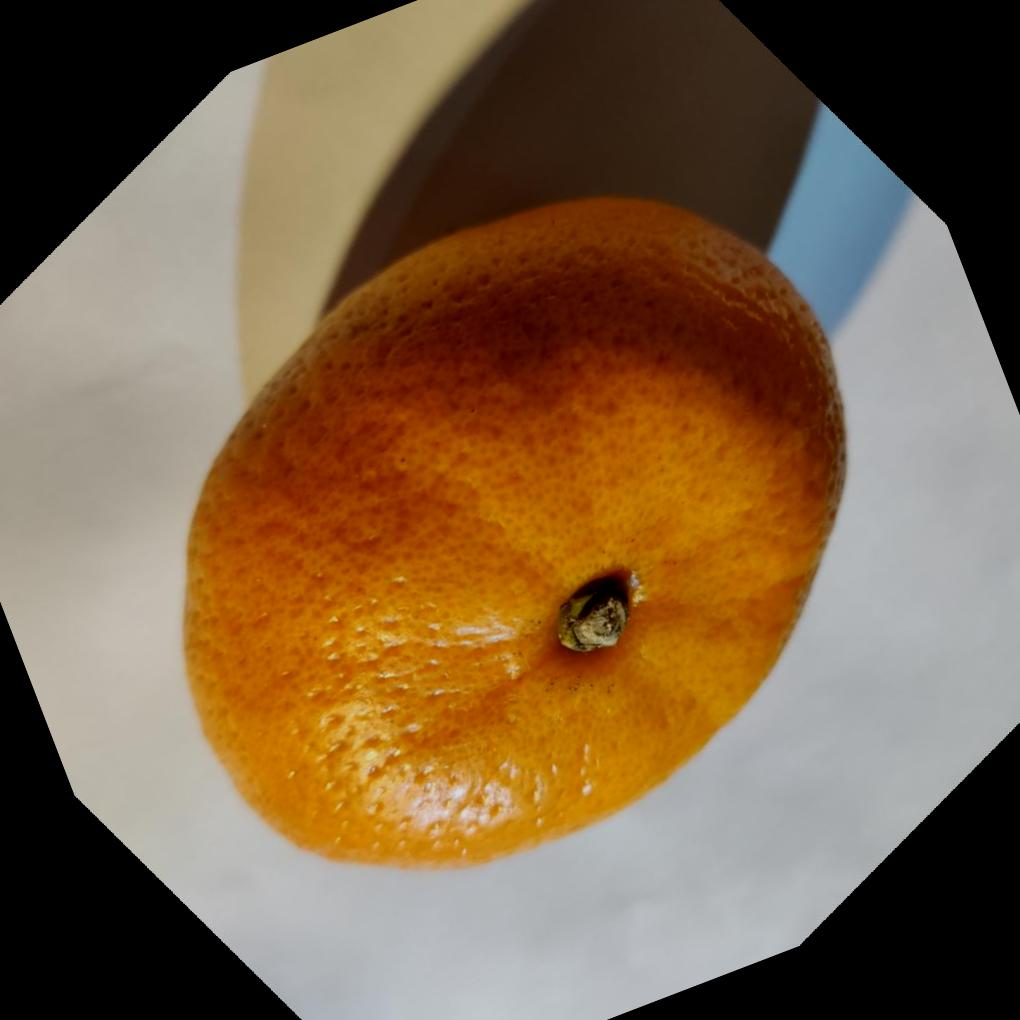FreshGuava: (176, 193, 846, 874)
